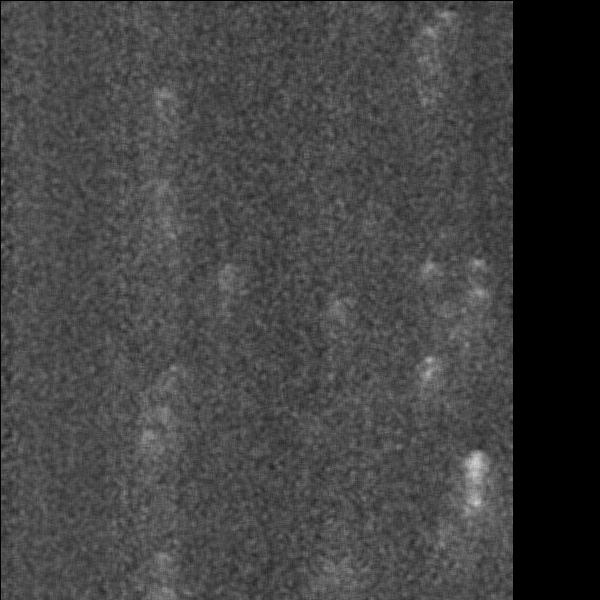spark: (456, 445, 494, 599), (419, 353, 441, 412), (133, 425, 161, 453), (462, 281, 493, 306), (416, 256, 441, 286), (150, 83, 180, 106), (416, 22, 440, 50), (429, 6, 457, 27), (150, 549, 174, 573), (460, 256, 490, 272), (152, 581, 177, 600)
